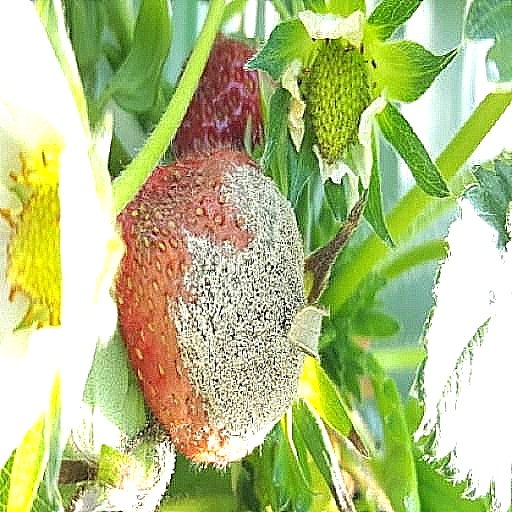Gray Mold: (181, 148, 399, 467)
